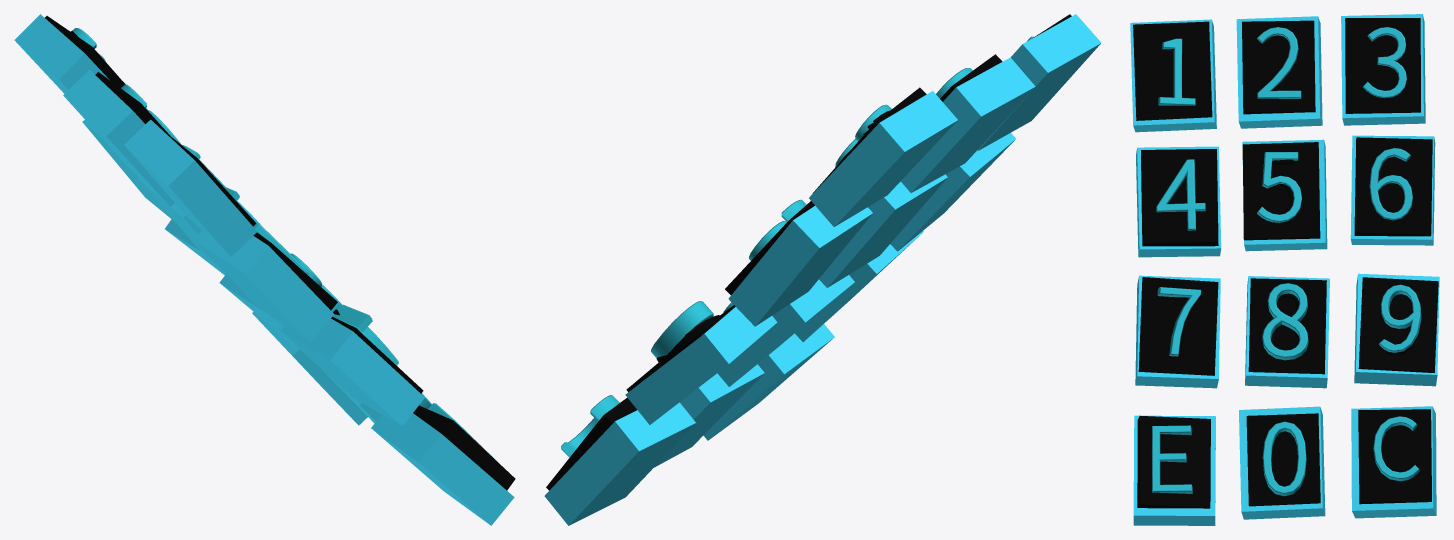
File: Combination key pad buttons.fbx
The picture shows the model from 3 angles, left to right: view 1: azimuth 30°, elevation 25°; view 2: azimuth 150°, elevation 25°; view 3: azimuth 270°, elevation 25°; orthographic projection. The views are drawn at different scales.
Visible parts, largest first — view 1: 330fc26a-1cb3-4344-aeea-bfaf05ed0b07; view 2: 330fc26a-1cb3-4344-aeea-bfaf05ed0b07; view 3: 330fc26a-1cb3-4344-aeea-bfaf05ed0b07.
Boxes of the visible parts, box(x1,y1,x2,y2) form: 330fc26a-1cb3-4344-aeea-bfaf05ed0b07: box(14, 14, 515, 525); 330fc26a-1cb3-4344-aeea-bfaf05ed0b07: box(544, 14, 1101, 525); 330fc26a-1cb3-4344-aeea-bfaf05ed0b07: box(1130, 14, 1439, 525).
Bounding box in the file's own units: 17632 × 21944 × 15644.
